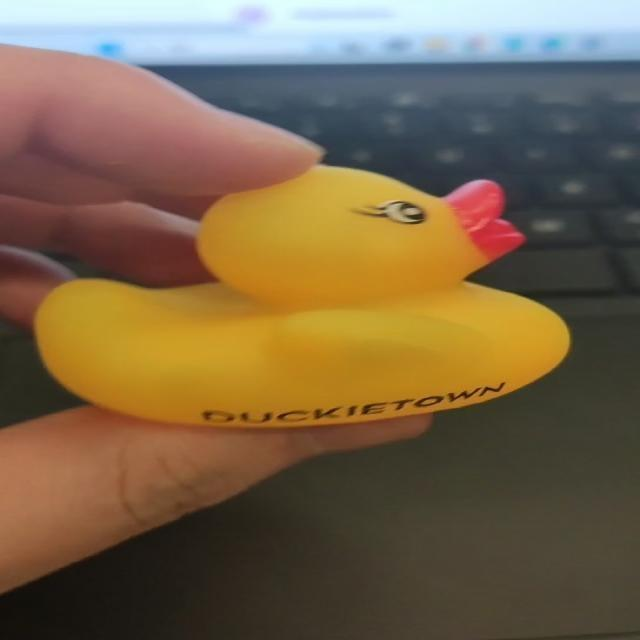rubber-duck: (34, 165, 568, 425)
